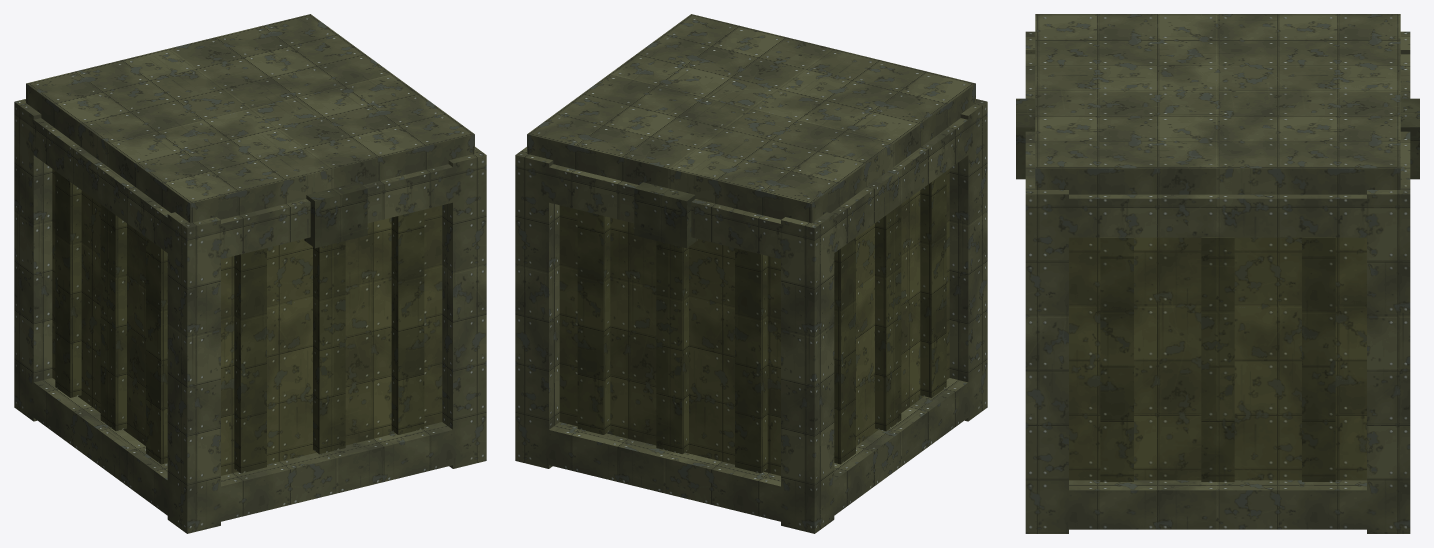
Rendered from cargo_crate.glb.
The picture shows the model from 3 angles, left to right: view 1: azimuth 30°, elevation 25°; view 2: azimuth 150°, elevation 25°; view 3: azimuth 270°, elevation 25°; orthographic projection. The views are drawn at different scales.
Parts seen in each view (by area): view 1: cargo_crate; view 2: cargo_crate; view 3: cargo_crate.
Boxes of the visible parts, bbox=[...] form: cargo_crate: bbox=[14, 14, 486, 533]; cargo_crate: bbox=[515, 14, 987, 533]; cargo_crate: bbox=[1016, 14, 1419, 533].
Bounding box in the file's own units: 0.7711 × 0.8 × 0.8096.
1 material, 1 textured.
